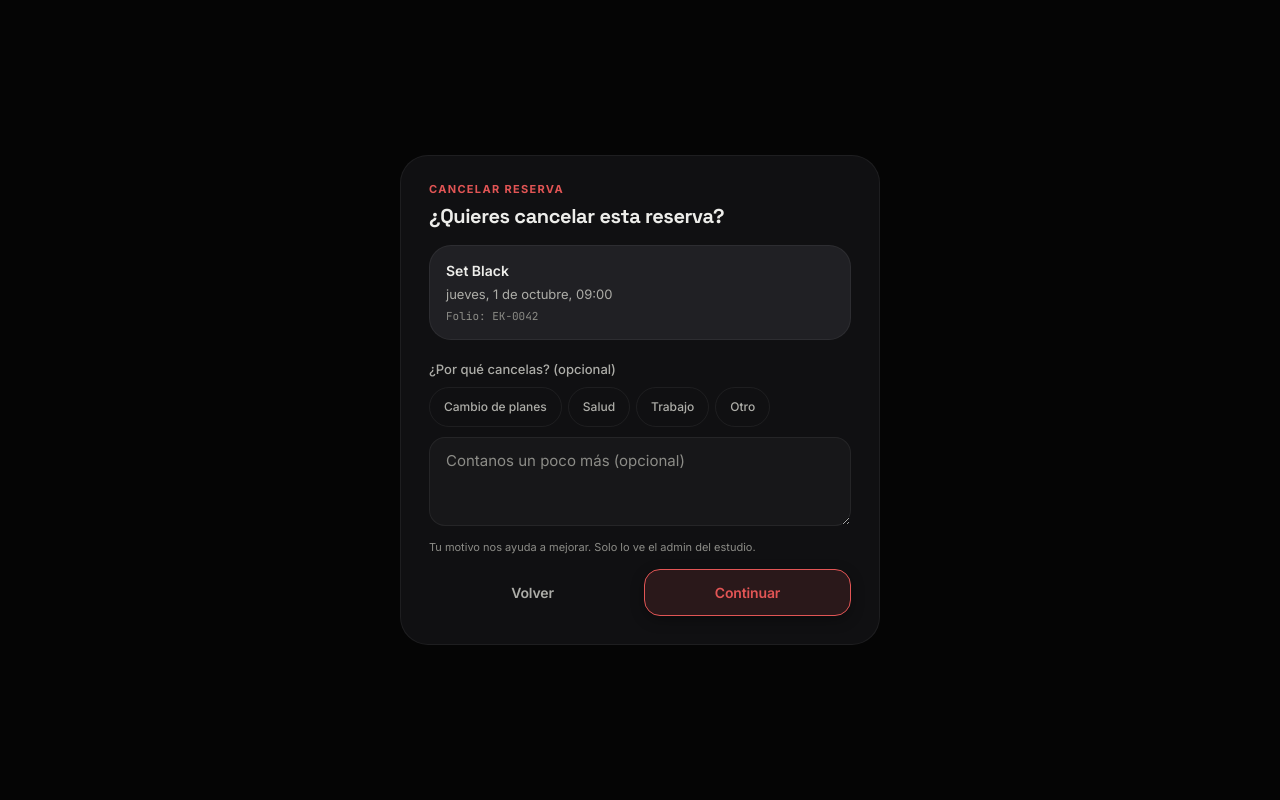
Test: CancelarMiReservaModal · invitados extra pagados (M16) › con invitados pagados avisa que el cobro no se devuelve solo y da el WhatsApp con el folio
Click the button "Continuar" at (748, 593), box [644, 569, 851, 616]
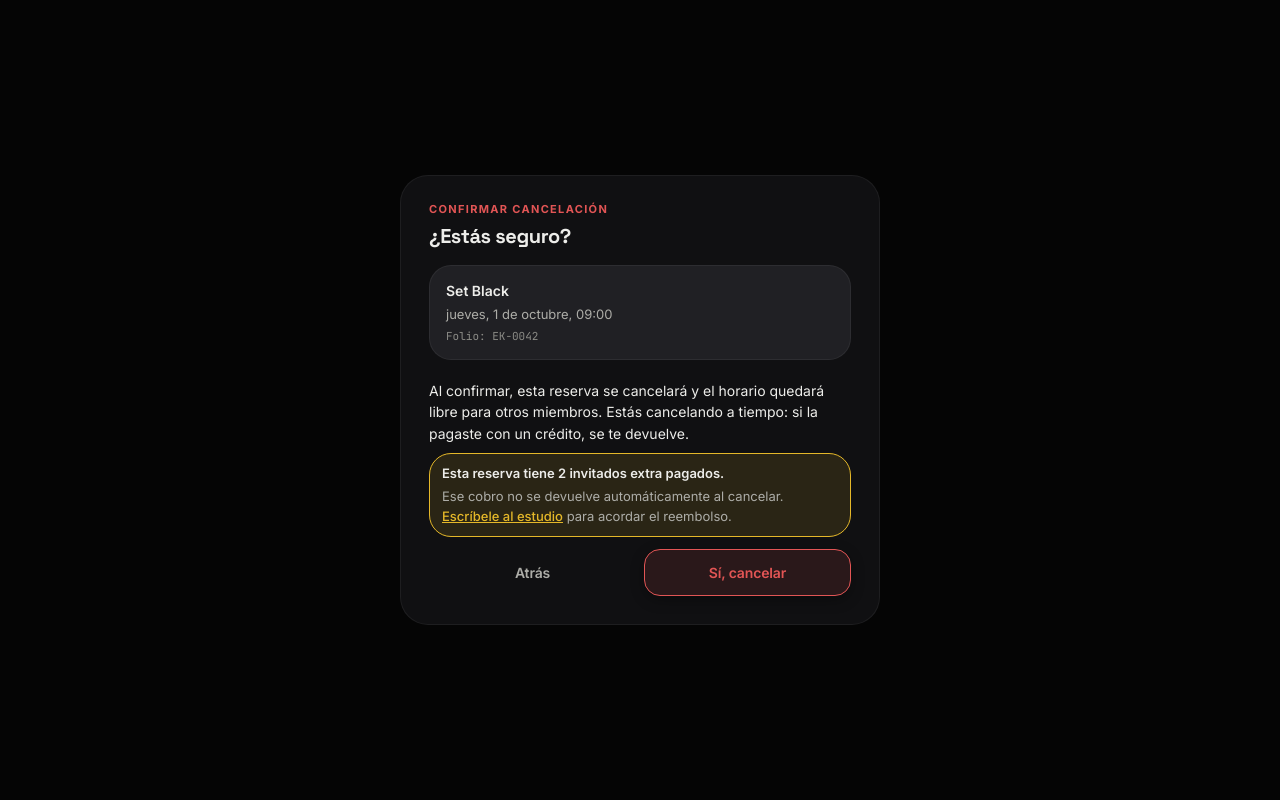
Check: the element that starts with "Esta reserva tiene" shows "2 invitados extra pagados", box [429, 453, 851, 537]
Check: the element that starts with "Esta reserva tiene" shows "no se devuelve automáticamente", box [442, 488, 784, 504]
